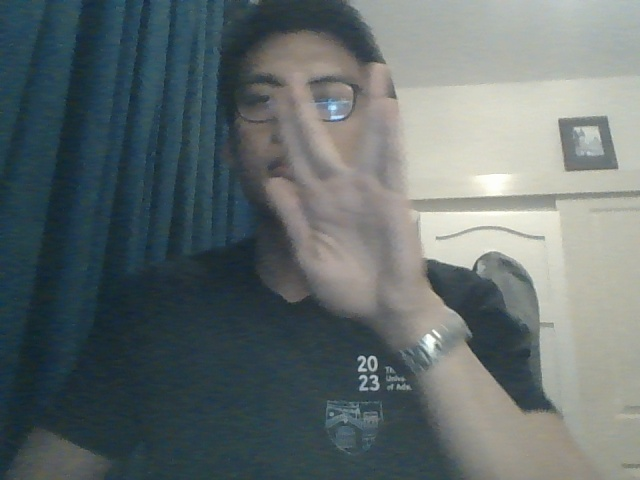LiveLong: (261, 61, 430, 318)
